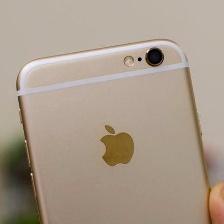phone: (9, 32, 224, 223)
